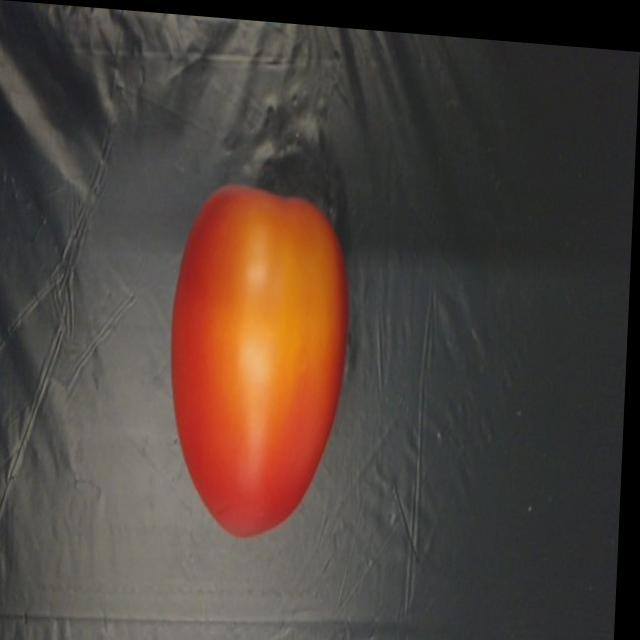sari: (154, 173, 372, 548)
